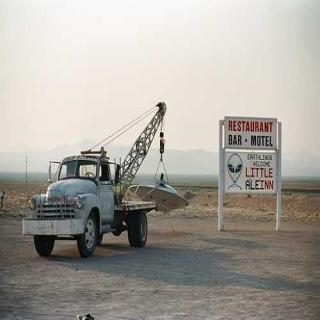Towing_truck: (21, 100, 190, 258)
